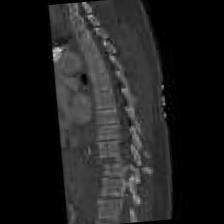fracture-dislocation: (49, 0, 182, 224)
